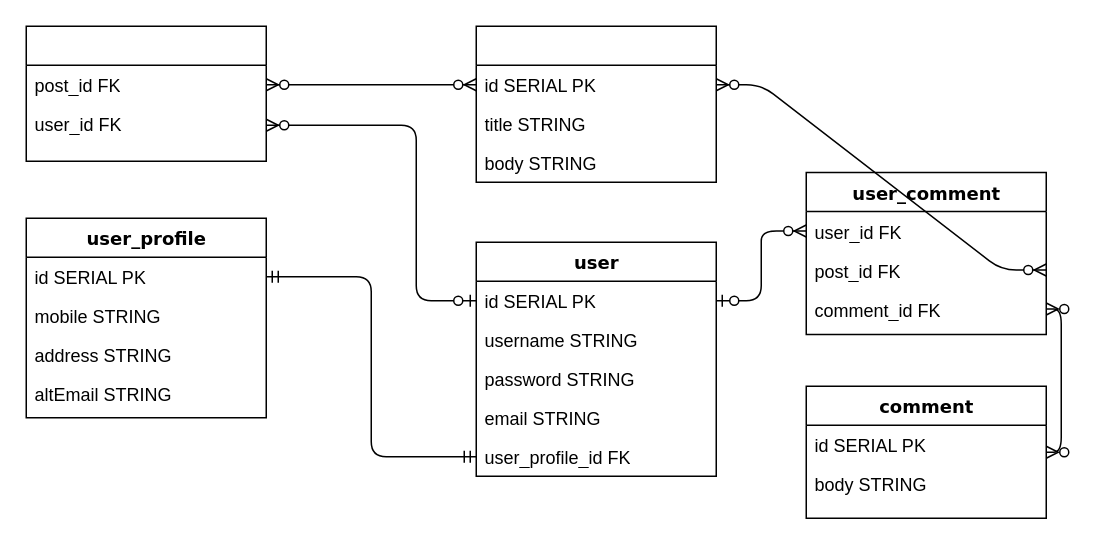
The diagram is 1101 pixels wide and 545 high, and some of its shapes have lost their labels. Here are the shapes that lost their labels. From the top down, the box of each, then its label:
(25, 25, 266, 161): user_post
(475, 25, 716, 182): post
